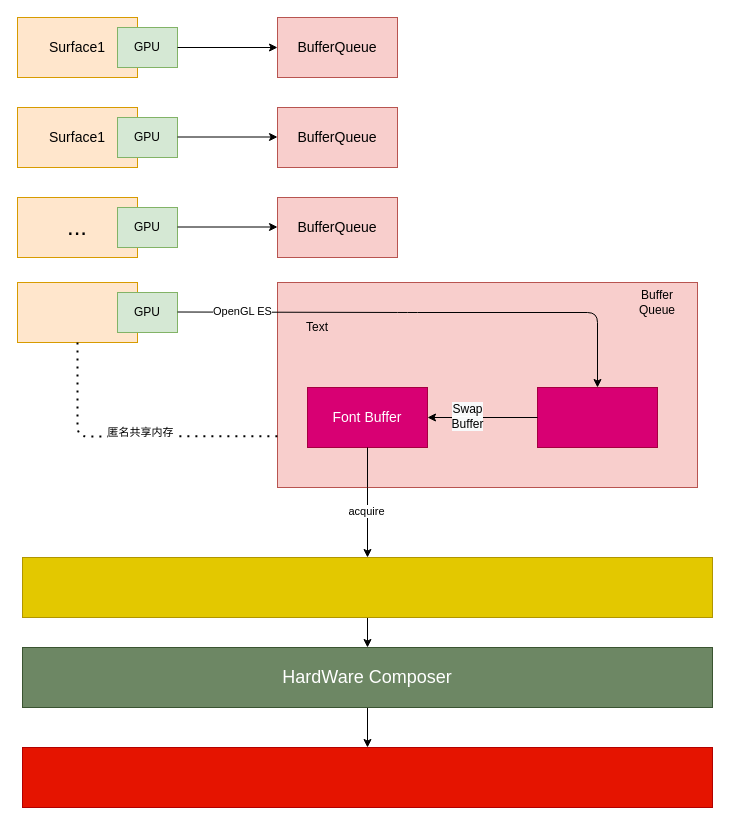
Image size: 730x825. Some labels were removed from this diagram. Here are the shapes that lost their labels. From the top down, the centre of each, then its label:
At pixel 77 312: "SurfaceN".
At pixel 597 417: "OffScreen Buffer".
At pixel 367 587: "SurfaceFlinger".
At pixel 367 777: "Frame Buffer".
